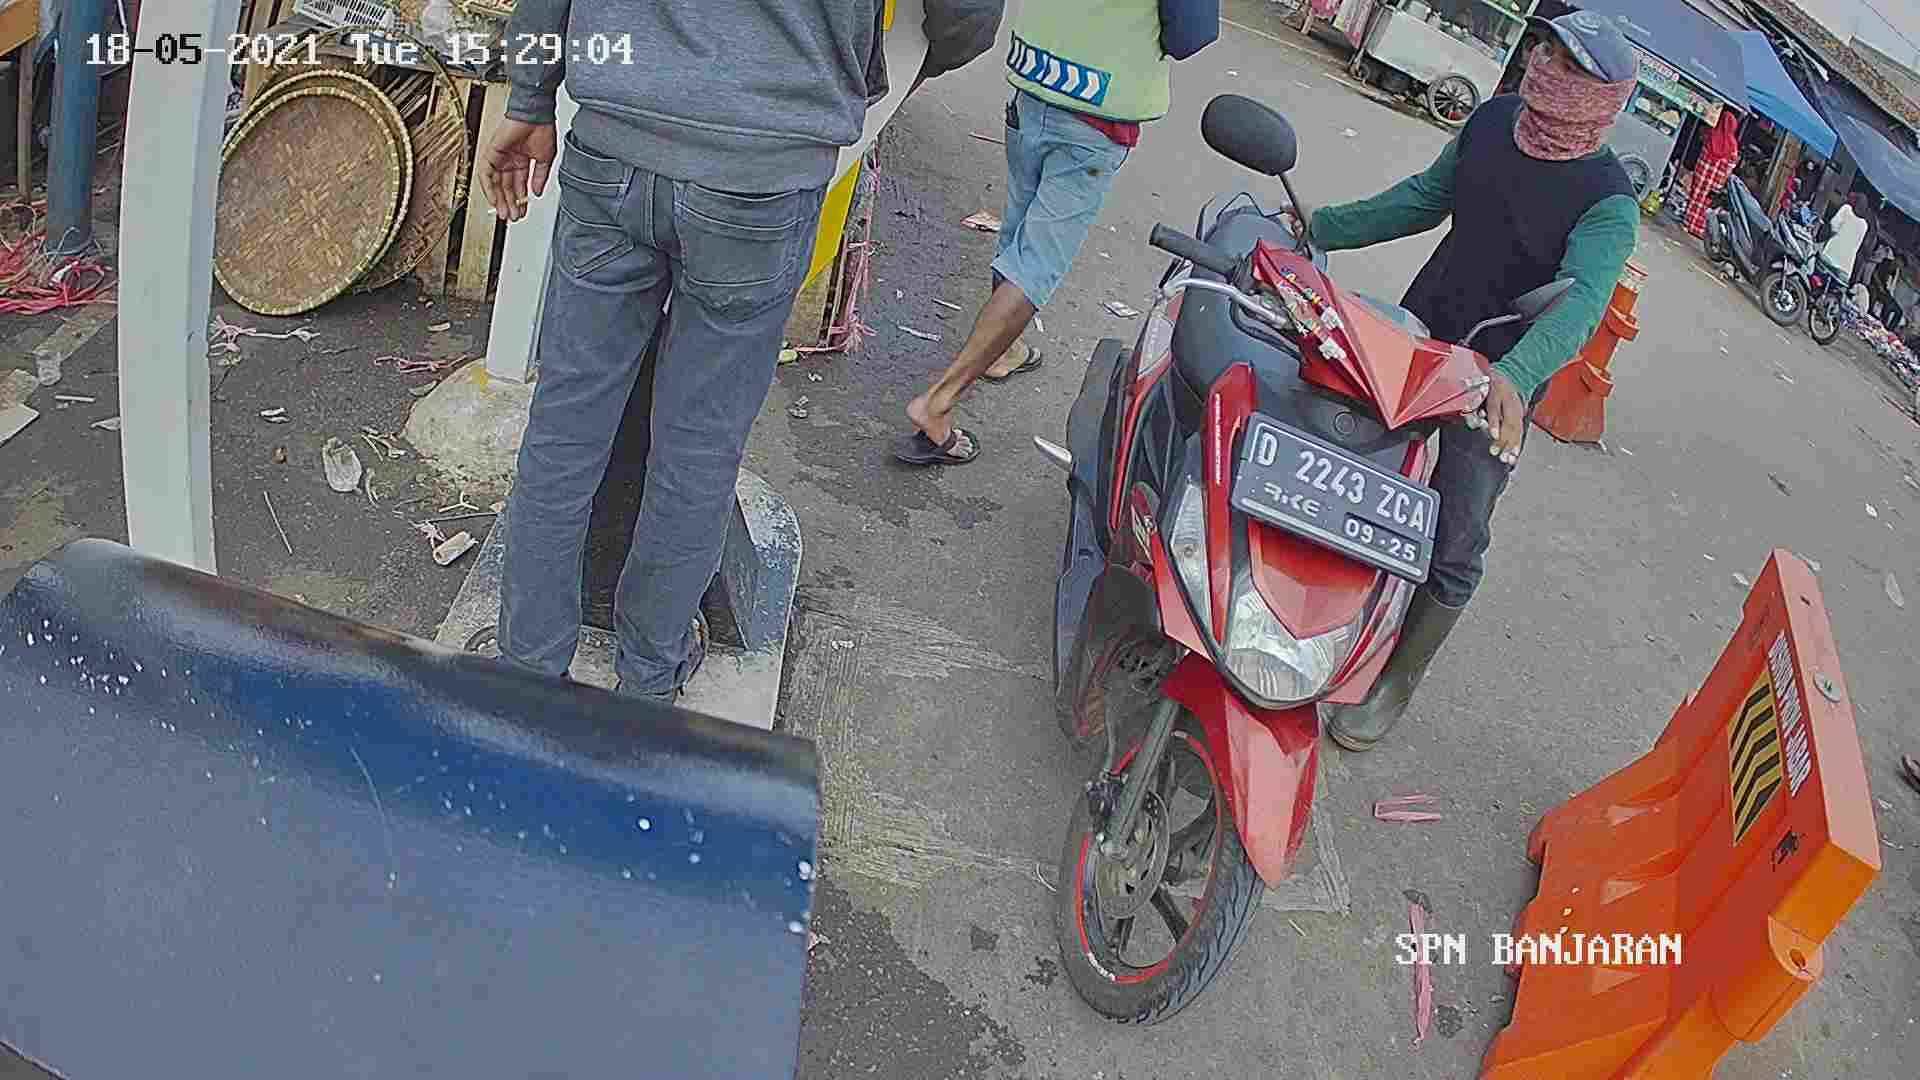motor: (1018, 123, 1518, 1064)
